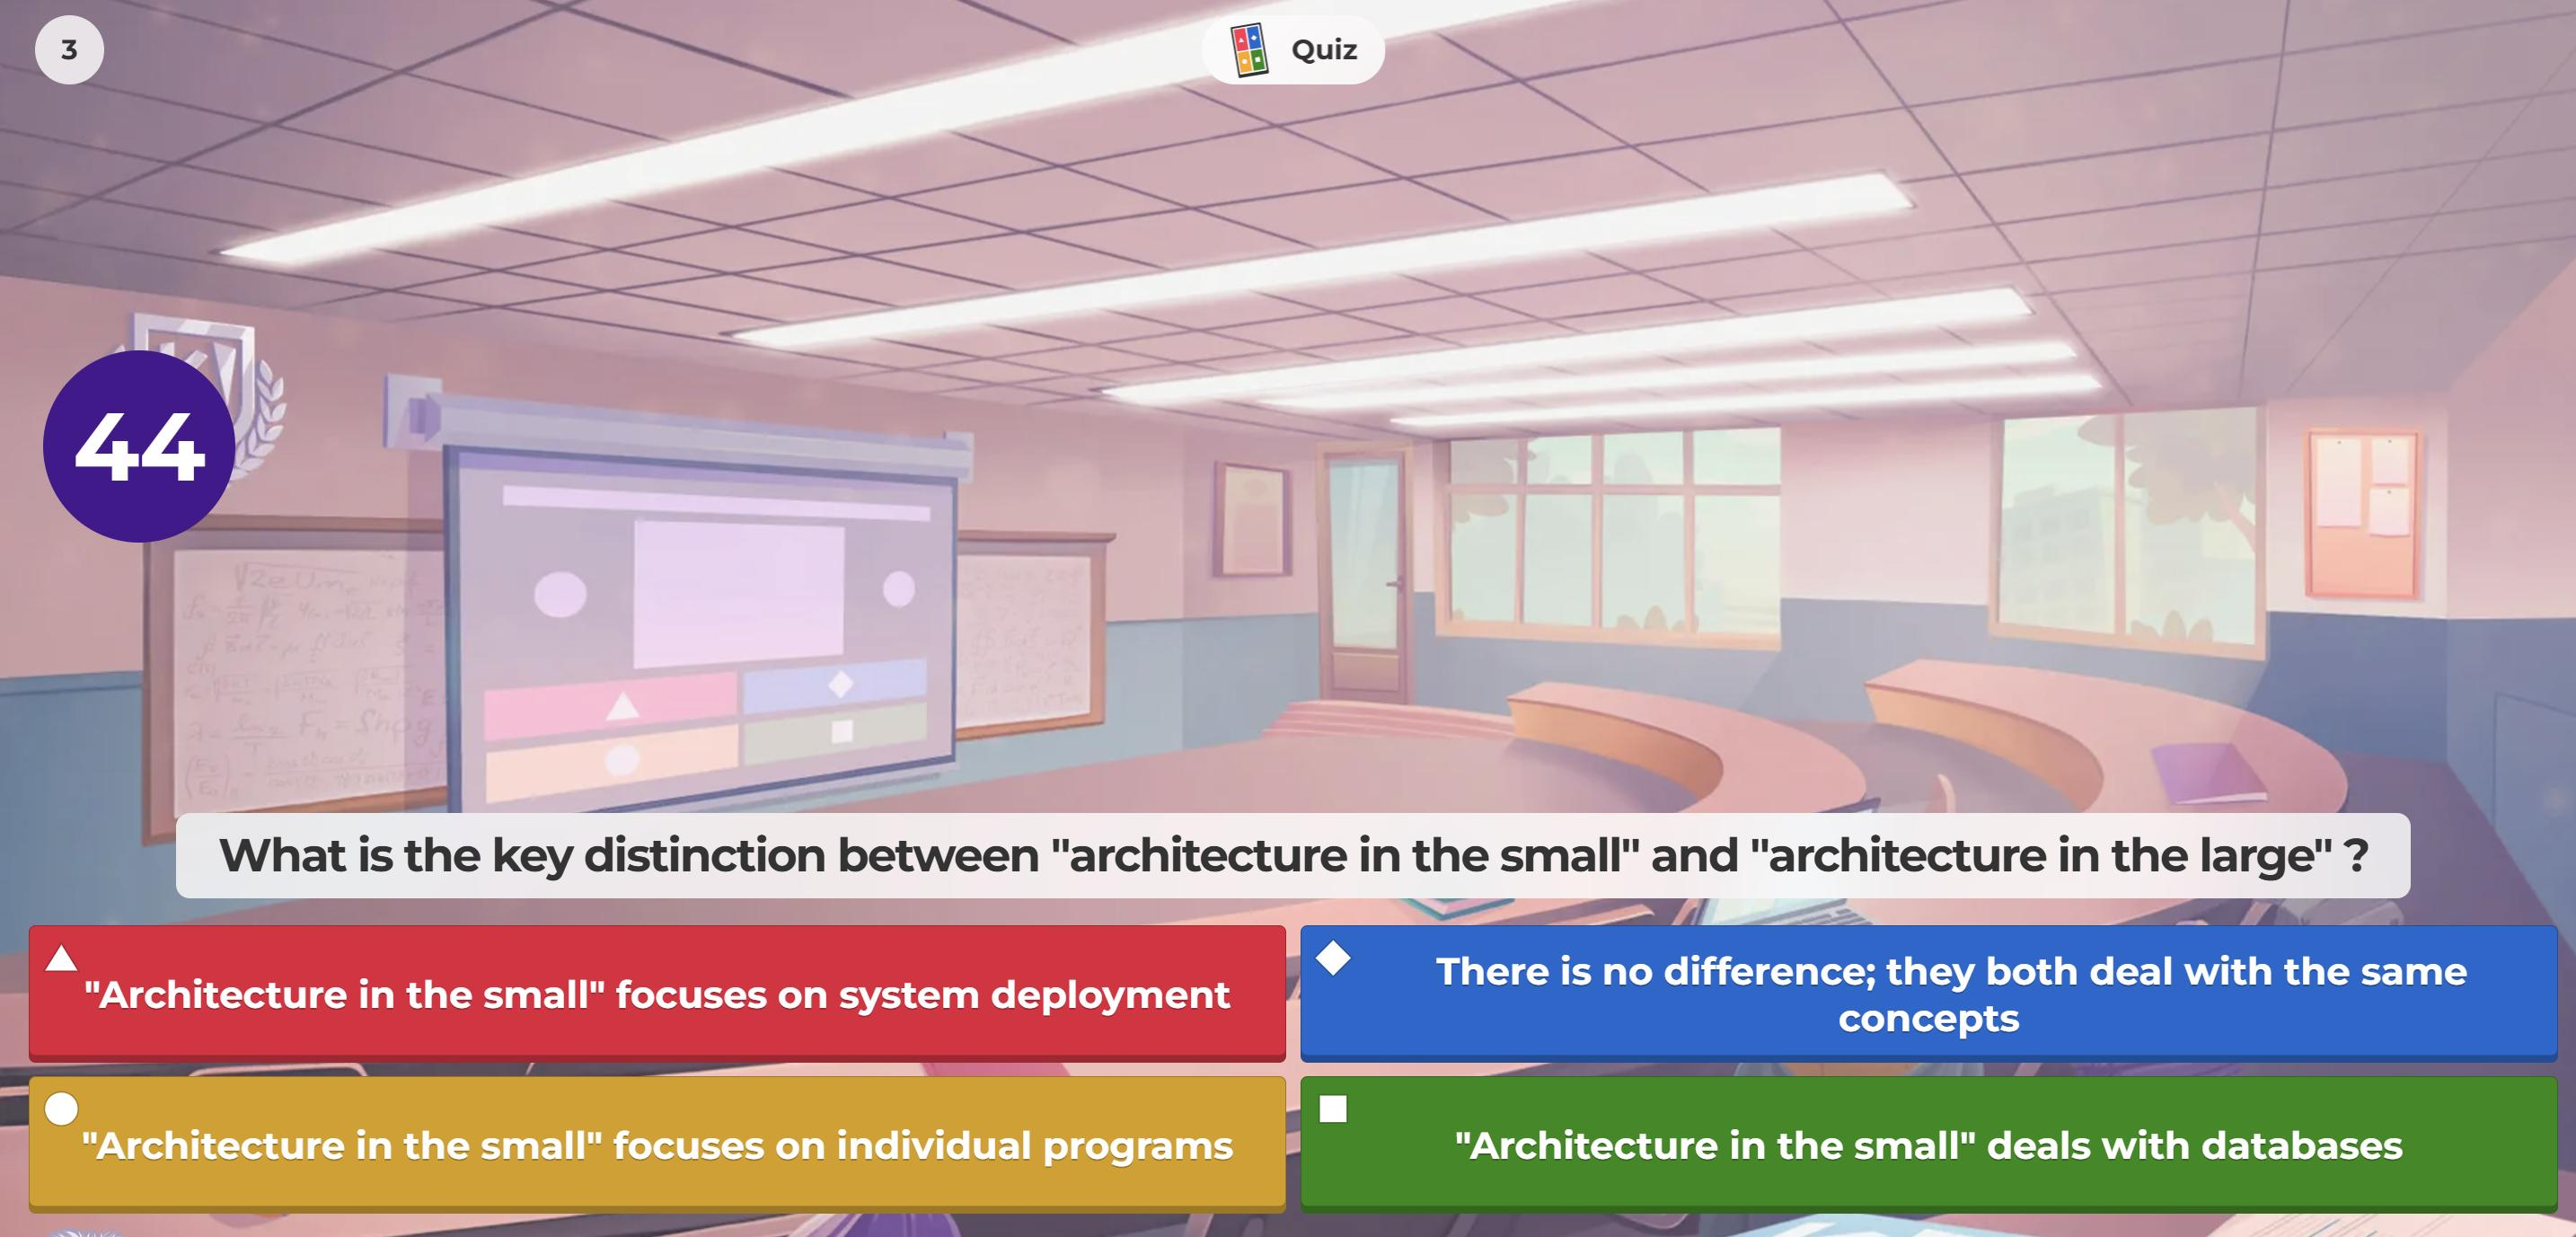answer_blue: (1301, 928, 2546, 1046)
answer_green: (1304, 1081, 2556, 1204)
answer_red: (26, 925, 1278, 1051)
answer_yellow: (33, 1081, 1290, 1199)
question_box: (179, 813, 2407, 902)
